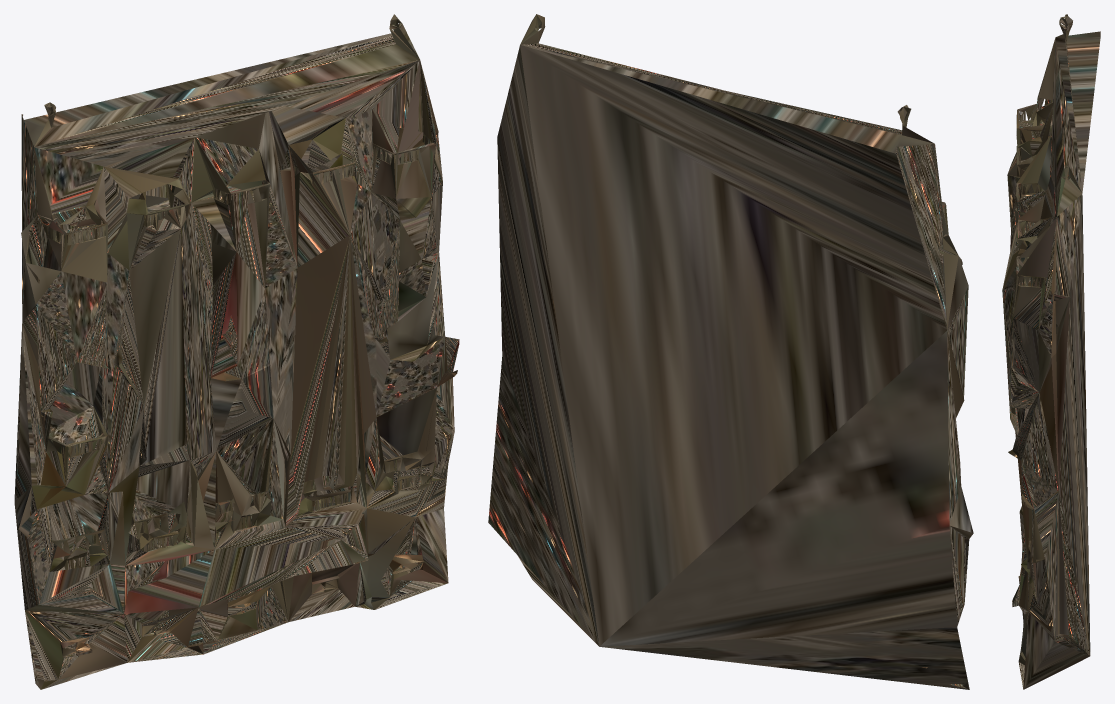
The model's file is w01_far.glb.
The picture shows the model from 3 angles, left to right: view 1: azimuth 30°, elevation 25°; view 2: azimuth 150°, elevation 25°; view 3: azimuth 270°, elevation 25°; orthographic projection. The views are drawn at different scales.
Parts seen in each view (by area): view 1: w01_far; view 2: w01_far; view 3: w01_far.
Boxes of the visible parts, x1,y1,x2,y2 form: w01_far: [14, 14, 459, 689]; w01_far: [488, 14, 973, 689]; w01_far: [1002, 14, 1100, 689].
Size of the model in its own units: 27.42 by 34 by 5.81.
Materials: 1 (1 with a texture image).
